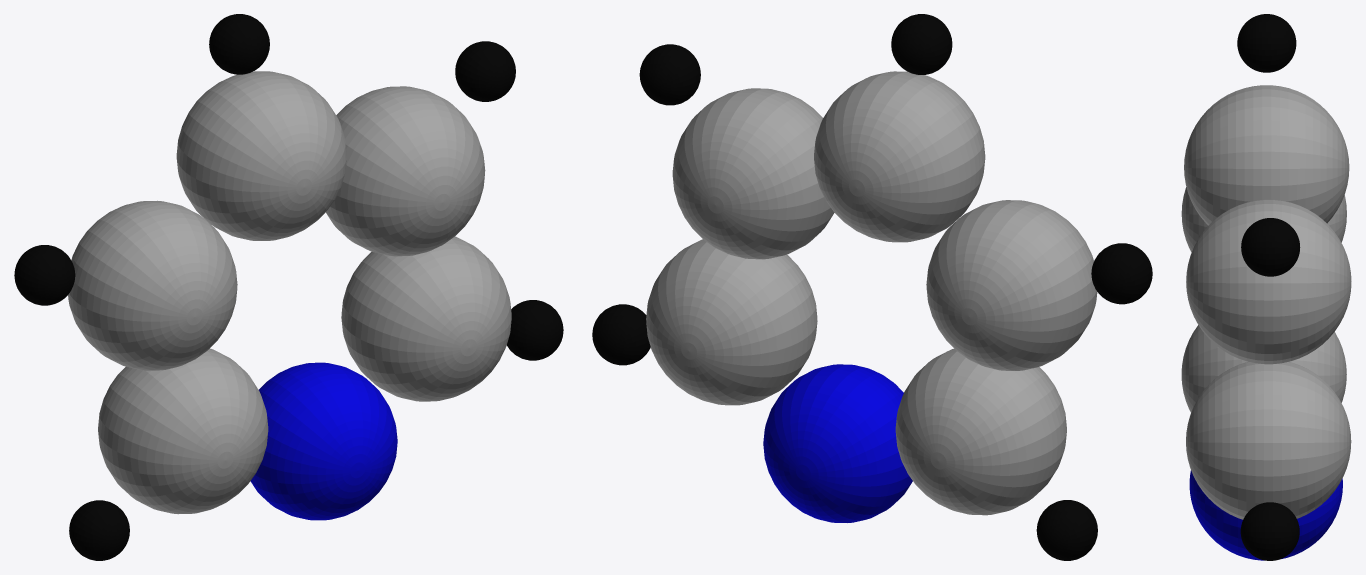
The model's file is Pyridine.glb.
3 views of the same model, side by side, from view 1: azimuth 30°, elevation 25°; view 2: azimuth 150°, elevation 25°; view 3: azimuth 270°, elevation 25° (orthographic). The views are drawn at different scales.
Parts seen in each view (by area): view 1: world; view 2: world; view 3: world.
Boxes of the visible parts, box(x1,y1,x2,y2) form: world: box(14, 14, 563, 560); world: box(592, 14, 1152, 560); world: box(1181, 14, 1351, 560).
Size of the model in its own units: 5.17 by 4.66 by 1.44.
